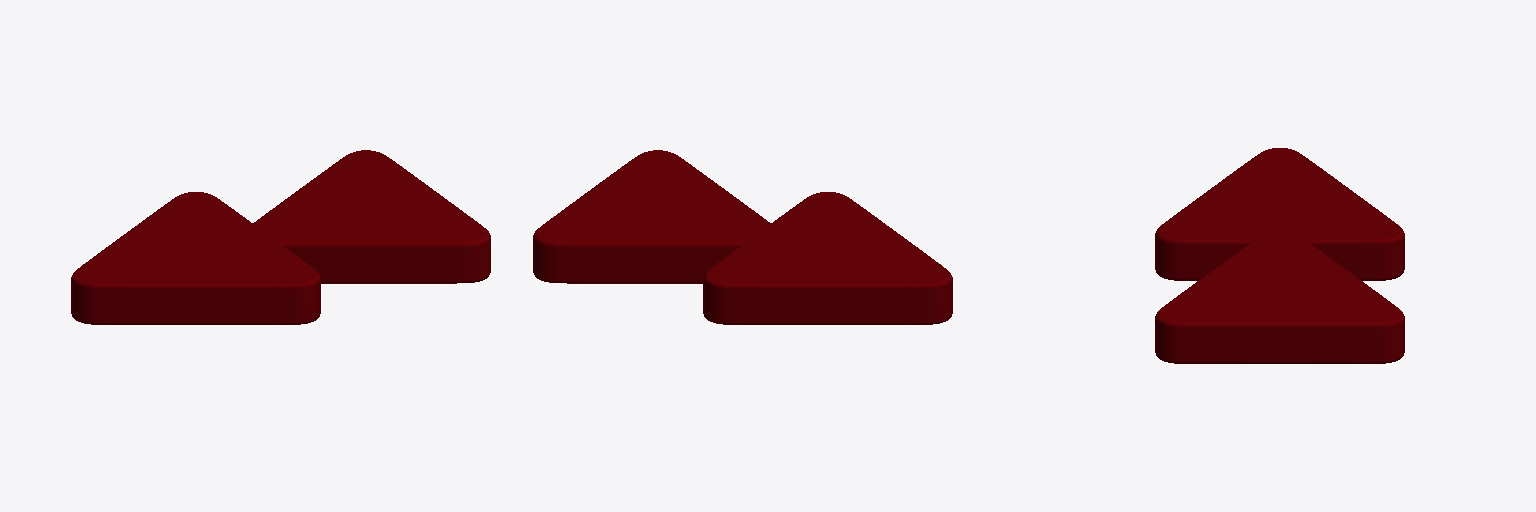
The model's file is backward.obj.
The picture shows the model from 3 angles: view 1: azimuth 30°, elevation 25°; view 2: azimuth 150°, elevation 25°; view 3: azimuth 270°, elevation 25°; orthographic projection.
Size of the model in its own units: 194 by 21.41 by 115.